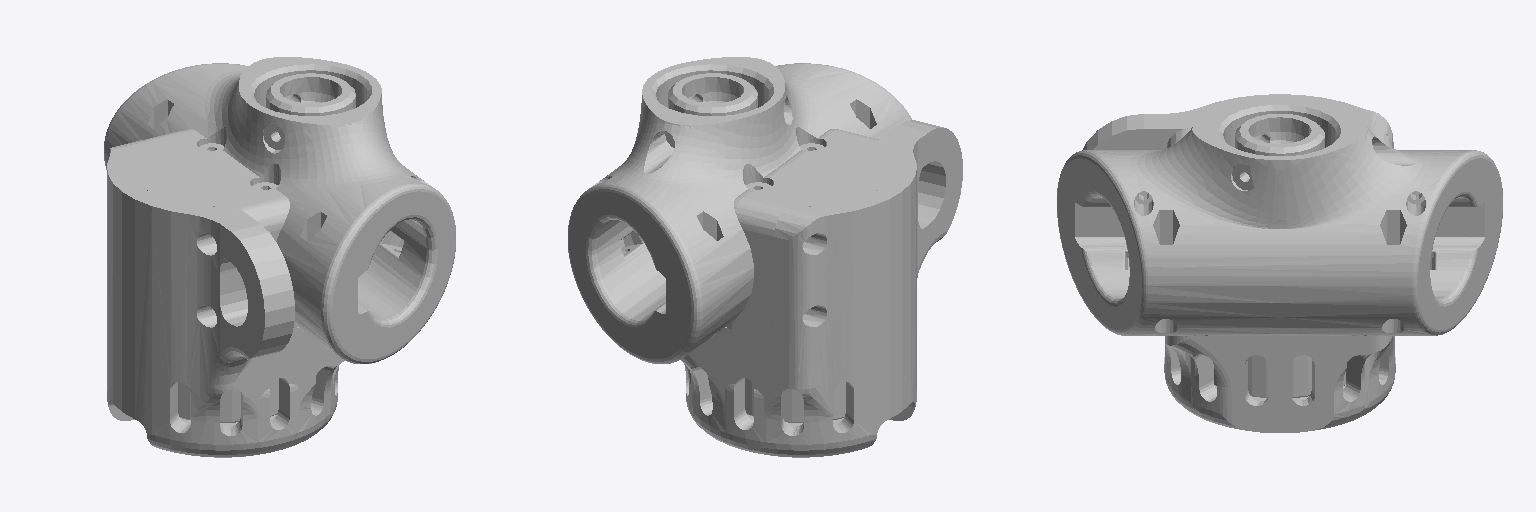
Rendered from Right_Slide_Casing.obj.
3 views of the same model, side by side, from view 1: azimuth 30°, elevation 25°; view 2: azimuth 150°, elevation 25°; view 3: azimuth 270°, elevation 25° (orthographic).
Parts seen in each view (by area): view 1: Right_Slide_Casing; view 2: Right_Slide_Casing; view 3: Right_Slide_Casing.
Boxes of the visible parts, x1,y1,x2,y2 form: Right_Slide_Casing: [104, 57, 455, 457]; Right_Slide_Casing: [568, 57, 962, 457]; Right_Slide_Casing: [1057, 94, 1502, 432].
Bounding box in the file's own units: 0.136 × 0.148 × 0.1967.